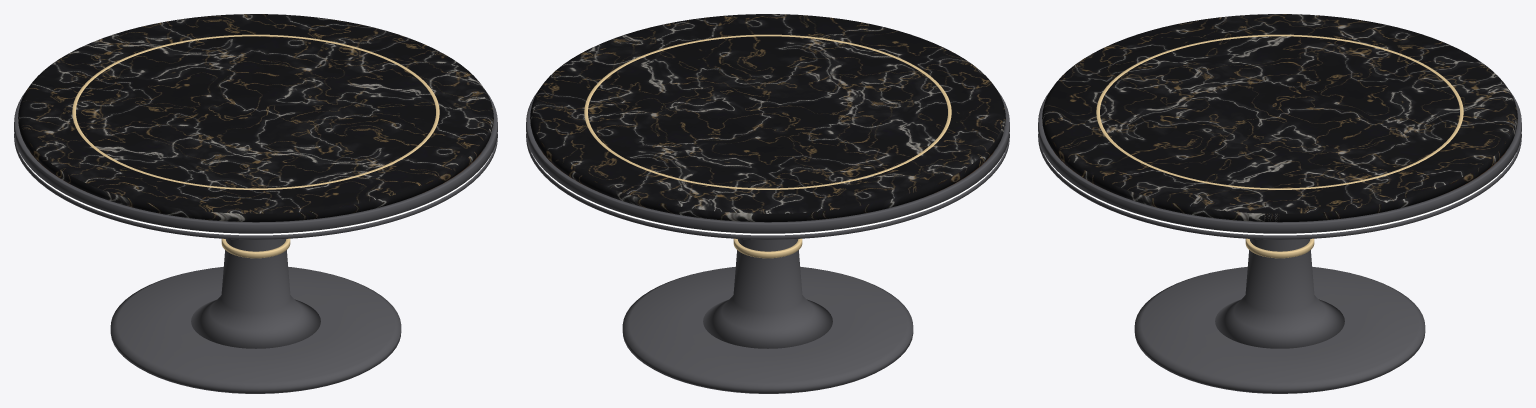
The model's file is table.glb.
The picture shows the model from 3 angles, left to right: view 1: azimuth 30°, elevation 25°; view 2: azimuth 150°, elevation 25°; view 3: azimuth 270°, elevation 25°; orthographic projection.
Visible parts, largest first — view 1: Table_Top, Table_Metal, Table_Brass, Table_Glow; view 2: Table_Top, Table_Metal, Table_Brass, Table_Glow; view 3: Table_Top, Table_Metal, Table_Brass, Table_Glow.
Boxes of the visible parts, left/top/right/bottom form: Table_Top: left=18, top=14, right=493, bottom=222; Table_Metal: left=14, top=91, right=497, bottom=393; Table_Brass: left=72, top=34, right=439, bottom=258; Table_Glow: left=19, top=153, right=492, bottom=235; Table_Top: left=530, top=14, right=1005, bottom=222; Table_Metal: left=526, top=91, right=1009, bottom=393; Table_Brass: left=584, top=34, right=951, bottom=258; Table_Glow: left=531, top=153, right=1004, bottom=235; Table_Top: left=1042, top=14, right=1517, bottom=222; Table_Metal: left=1038, top=91, right=1521, bottom=393; Table_Brass: left=1096, top=34, right=1463, bottom=258; Table_Glow: left=1043, top=153, right=1516, bottom=235.
Bounding box in the file's own units: 1.46 × 0.7406 × 1.46.
Materials: 5 (2 with a texture image).
